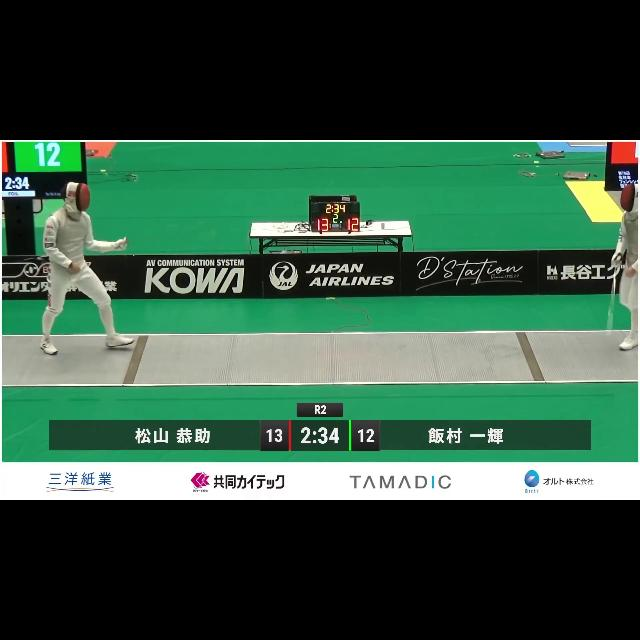blade: (120, 218, 206, 252)
